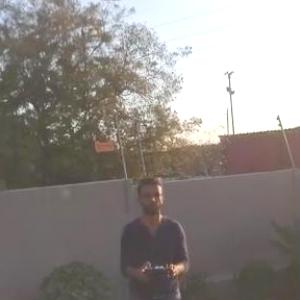follow: (110, 172, 194, 299)
